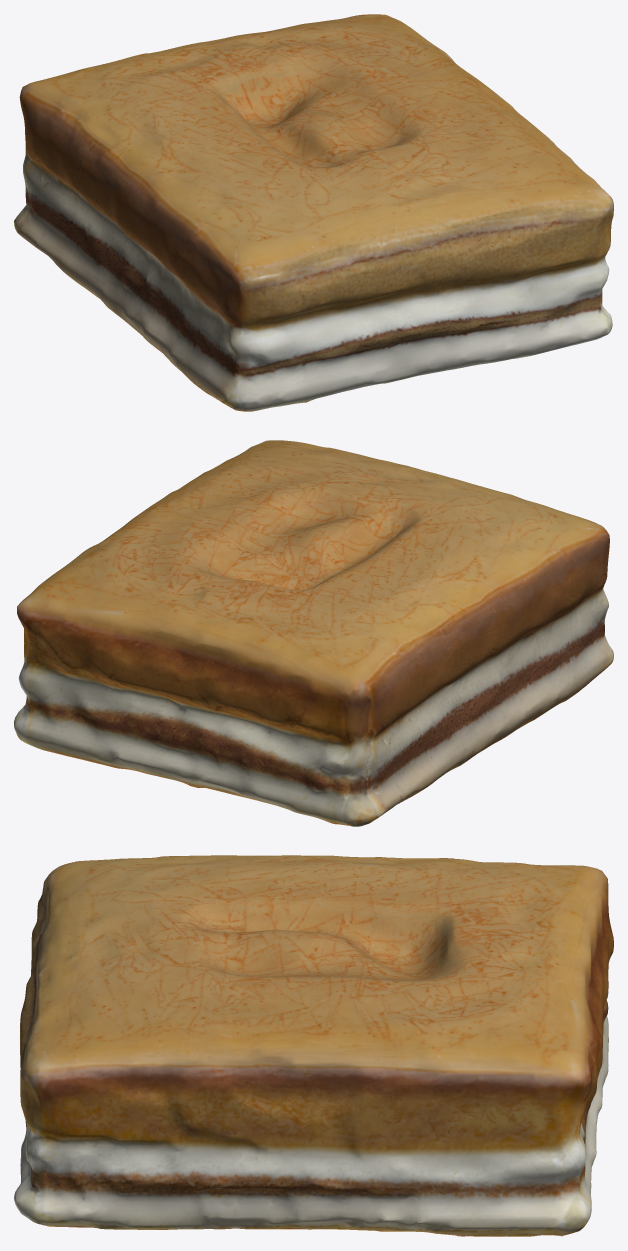
The model's file is lapisLegit3d.glb.
The picture shows the model from 3 angles, top to bottom: view 1: azimuth 30°, elevation 25°; view 2: azimuth 150°, elevation 25°; view 3: azimuth 270°, elevation 25°; orthographic projection. The views are drawn at different scales.
Size of the model in its own units: 1.04 by 0.4826 by 1.2.
Materials: 1 (1 with a texture image).
